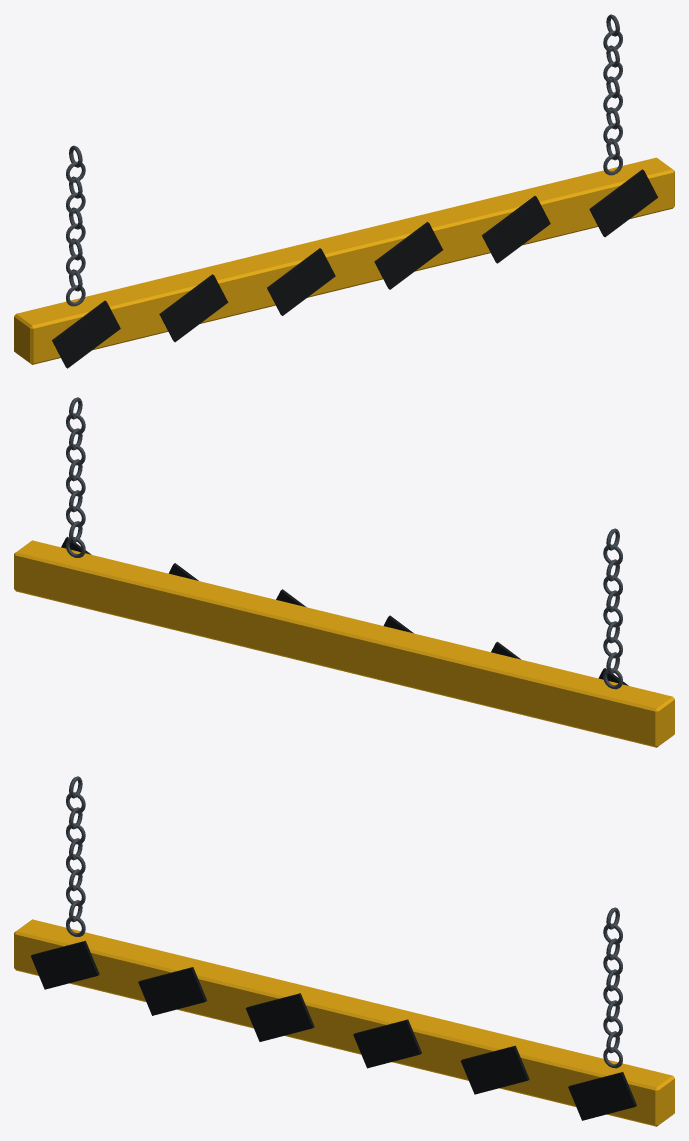
Rendered from HangingHeightLimiter.fbx.
3 renders of one model, top to bottom at view 1: azimuth 30°, elevation 25°; view 2: azimuth 150°, elevation 25°; view 3: azimuth 330°, elevation 25°, orthographic.
Parts seen in each view (by area): view 1: HangingHeightLimiter; view 2: HangingHeightLimiter; view 3: HangingHeightLimiter.
Part boxes in pixels (x1,y1,x2,y2): HangingHeightLimiter: (14,14,674,368); HangingHeightLimiter: (14,397,674,747); HangingHeightLimiter: (14,776,674,1126).
Bounding box in the file's own units: 240 × 74.39 × 13.4.
1 material, 1 textured.
